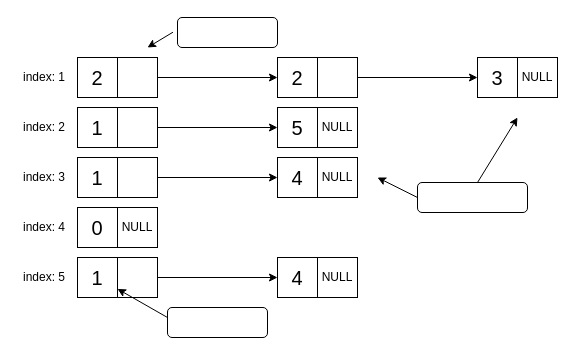
Some shapes in this 575 by 355 pixel diagram are drawn without their labels. The centre of each missing label's shape, as x and y in pixels:
head node: (x=227, y=32)
preCount: (x=217, y=322)
successors: (x=472, y=197)
